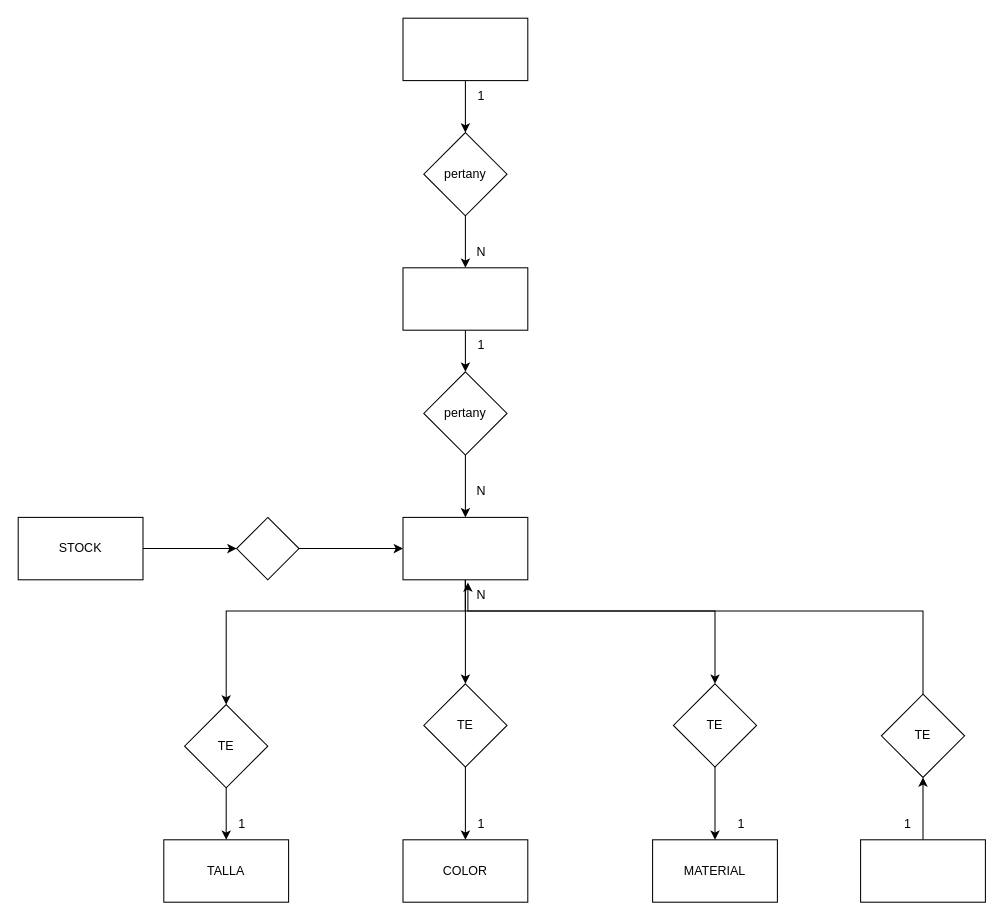
Some shapes in this 1004 by 920 pixel diagram are drawn without their labels. The shapes that lost their labels are listed below. From the top down, each one's centre as x and y in pixels, then its label:
At point (465, 49): "CATEGORIA".
At point (465, 298): "CLASE".
At point (267, 548): "hi ha".
At point (465, 548): "ARTICLE".
At point (922, 870): "MODELO".
